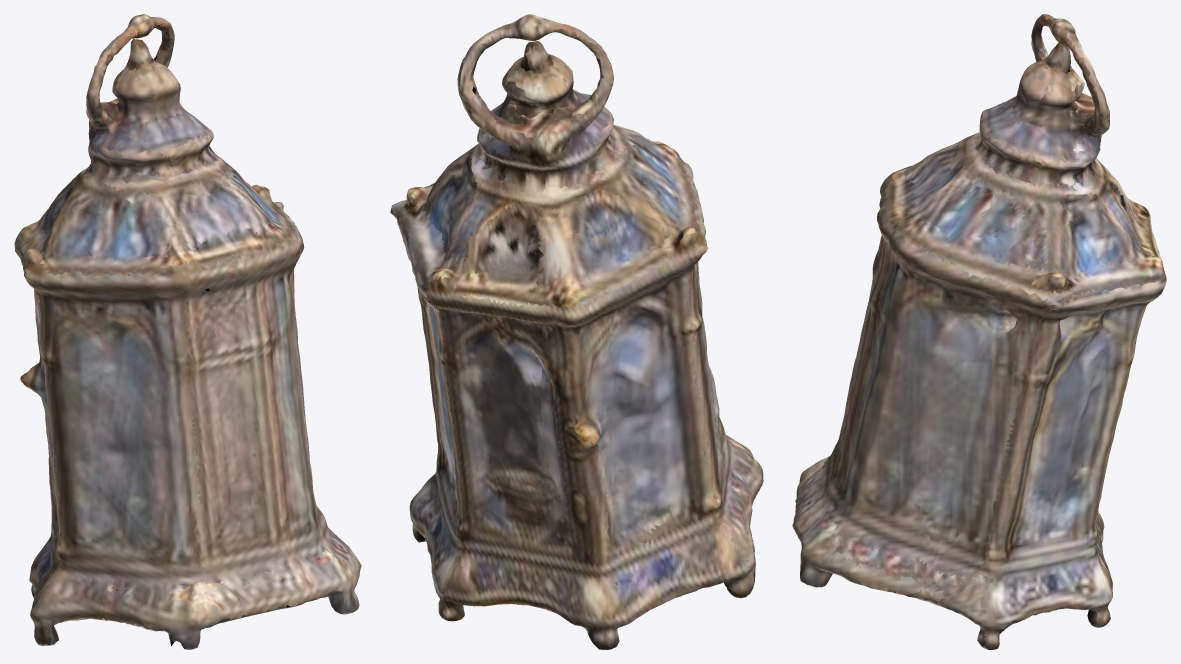
3 renders of one model, left to right at view 1: azimuth 30°, elevation 25°; view 2: azimuth 150°, elevation 25°; view 3: azimuth 270°, elevation 25°, orthographic. The views are drawn at different scales.
Visible parts, largest first — view 1: world; view 2: world; view 3: world.
Part boxes in pixels (x1,y1,x2,y2): world: [14, 14, 361, 649]; world: [390, 14, 763, 649]; world: [792, 14, 1166, 649].
Bounding box in the file's own units: 0.4981 × 0.8834 × 0.5203.
Materials: 1 (1 with a texture image).
